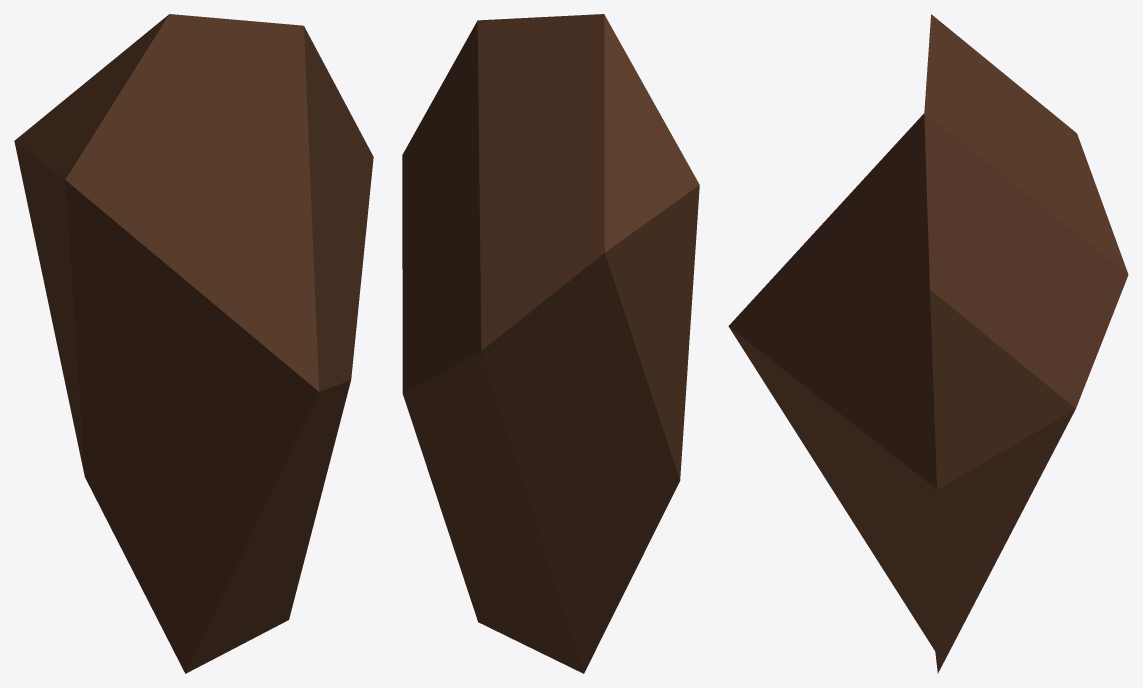
Rendered from RockShatter2.fbx.
3 renders of one model, left to right at view 1: azimuth 30°, elevation 25°; view 2: azimuth 150°, elevation 25°; view 3: azimuth 270°, elevation 25°, orthographic. The views are drawn at different scales.
Parts seen in each view (by area): view 1: RockShatter2; view 2: RockShatter2; view 3: RockShatter2.
Part boxes in pixels (x1=…): RockShatter2: x1=14, y1=14, x2=373, y2=673; RockShatter2: x1=402, y1=14, x2=699, y2=673; RockShatter2: x1=728, y1=14, x2=1128, y2=673.
Size of the model in its own units: 0.00466 by 0.00977 by 0.00563.
